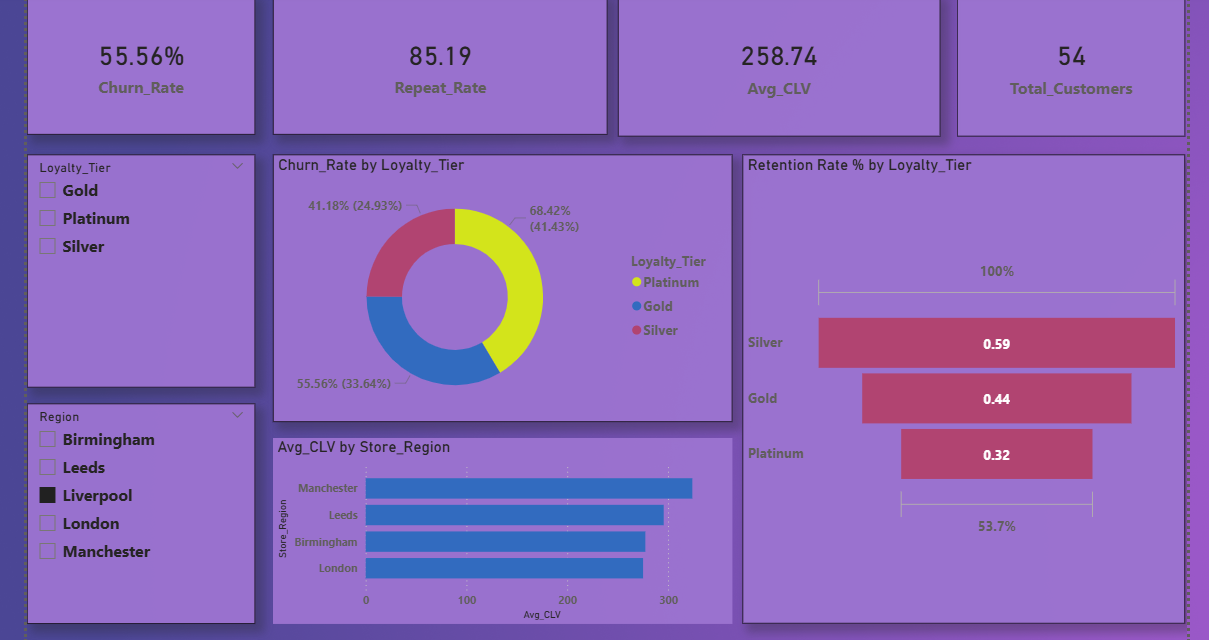

The page's visual inventory and layout, read from the dashboard file:
{"tool":"powerbi","page":{"name":"Page 1 Overview KPIs (Churn, CLV, Repeat Rate)","canvas":[1280,720],"ordinal":6},"visuals":[{"type":"card","fields":{"Values":["Churn_Labelled_Customers.Churn Rate %"]},"box":[0,0,252.1,155.4],"z":0},{"type":"card","fields":{"Values":["Churn_Labelled_Customers.Total_Customers"]},"box":[1027.3,0,252.1,157.1],"z":1000},{"type":"card","fields":{"Values":["Churn_Labelled_Customers.Repeat_Rate"]},"box":[271.1,0,369.5,155.4],"z":2000},{"type":"donutChart","fields":{"Category":["Loyalty_Program.Loyalty_Tier"],"Y":["Churn_Labelled_Customers.Churn_Rate"]},"box":[271.1,177.8,507.6,295.3],"z":3000},{"type":"card","fields":{"Values":["Customer_Demographics.Avg_CLV"]},"box":[652.7,0,355.7,157.1],"z":4000},{"type":"slicer","fields":{"Values":["Customer_Demographics.Region"]},"box":[0,452.4,252.1,243.5],"z":5000},{"type":"clusteredBarChart","fields":{"Y":["Customer_Demographics.Avg_CLV"],"Category":["Store_Locations.Store_Region"]},"box":[271.1,490.4,507.6,205.5],"z":6000},{"type":"slicer","fields":{"Values":["Loyalty_Program.Loyalty_Tier"]},"box":[0,177.8,252.1,257.3],"z":7000},{"type":"funnel","fields":{"Category":["Loyalty_Program.Loyalty_Tier"],"Y":["Churn_Labelled_Customers.Retention Rate %"]},"box":[790.8,177.8,488.6,518],"z":8000}]}

Visuals, with their boxes in screenshot pixels (x1, y1, x2, y2):
card - Churn_Labelled_Customers.Churn Rate %: <box>22,0,251,132</box>
card - Churn_Labelled_Customers.Total_Customers: <box>954,0,1183,133</box>
card - Churn_Labelled_Customers.Repeat_Rate: <box>268,0,603,132</box>
donutChart - Loyalty_Program.Loyalty_Tier x Churn_Labelled_Customers.Churn_Rate: <box>268,152,729,420</box>
card - Customer_Demographics.Avg_CLV: <box>614,0,937,133</box>
slicer - Customer_Demographics.Region: <box>22,401,251,622</box>
clusteredBarChart - Customer_Demographics.Avg_CLV x Store_Locations.Store_Region: <box>268,436,729,622</box>
slicer - Loyalty_Program.Loyalty_Tier: <box>22,152,251,385</box>
funnel - Loyalty_Program.Loyalty_Tier x Churn_Labelled_Customers.Retention Rate %: <box>740,152,1183,622</box>
